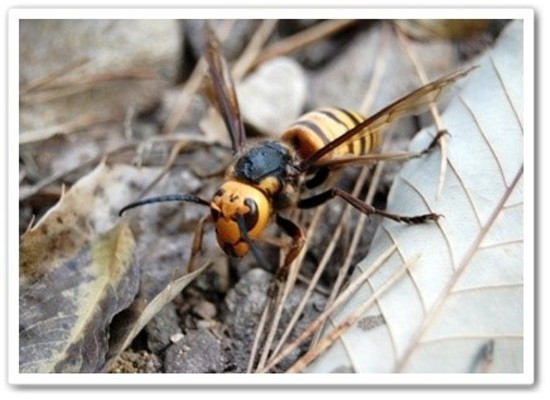asian_giant_hornet: (124, 63, 459, 283)
